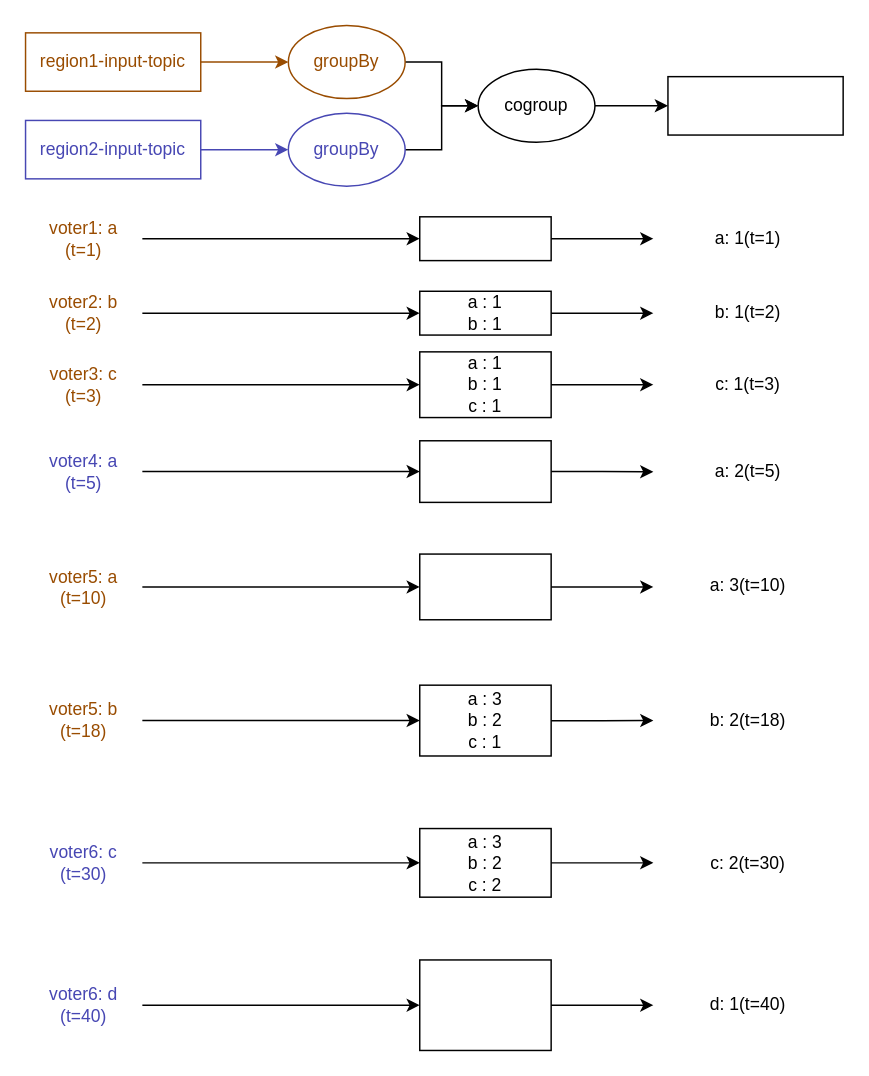
The diagram is 869 pixels wide and 1076 high, and some of its shapes have lost their labels. The centre of each missing label's shape, as x and y in pixels:
"a : 1" belongs at [484,238].
"a : 2 b : 1 c : 1" belongs at [484,470].
"a : 3 b : 1 c : 1" belongs at [484,586].
"a : 3 b : 2 c : 2 d : 1" belongs at [484,1004].
"output-result-topic" belongs at [754,105].
